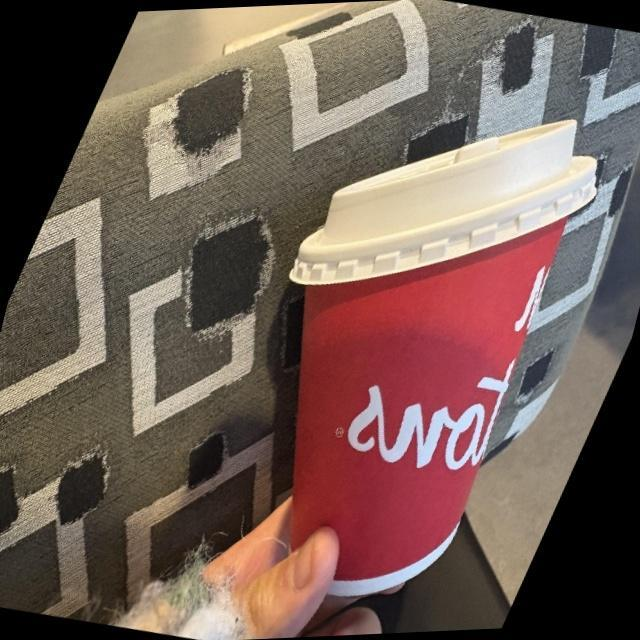timmies: (284, 115, 606, 600)
